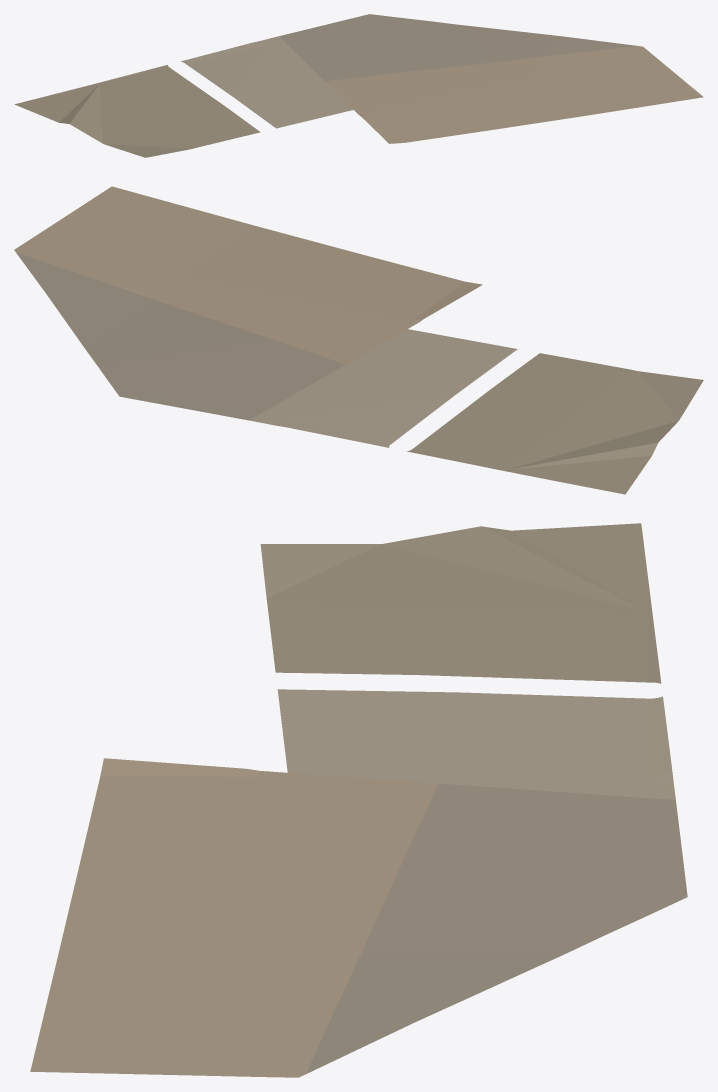
File: farm_2_-4_soil.glb
3 renders of one model, top to bottom at view 1: azimuth 30°, elevation 25°; view 2: azimuth 150°, elevation 25°; view 3: azimuth 270°, elevation 25°, orthographic. The views are drawn at different scales.
Parts seen in each view (by area): view 1: geometry_0; view 2: geometry_0; view 3: geometry_0.
Part boxes in pixels (x1,y1,x2,y2): geometry_0: (14, 14, 703, 157); geometry_0: (14, 186, 703, 494); geometry_0: (30, 523, 687, 1077).
Bounding box in the file's own units: 259 × 8.86 × 136.
